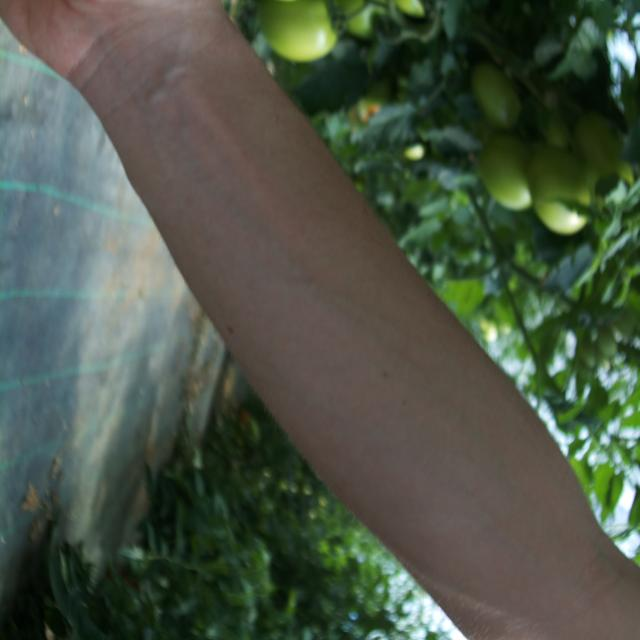yesil: (447, 53, 623, 259)
